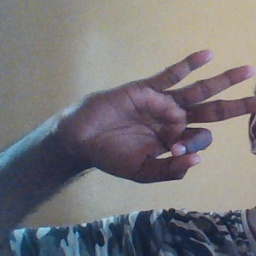K: (62, 49, 256, 185)
